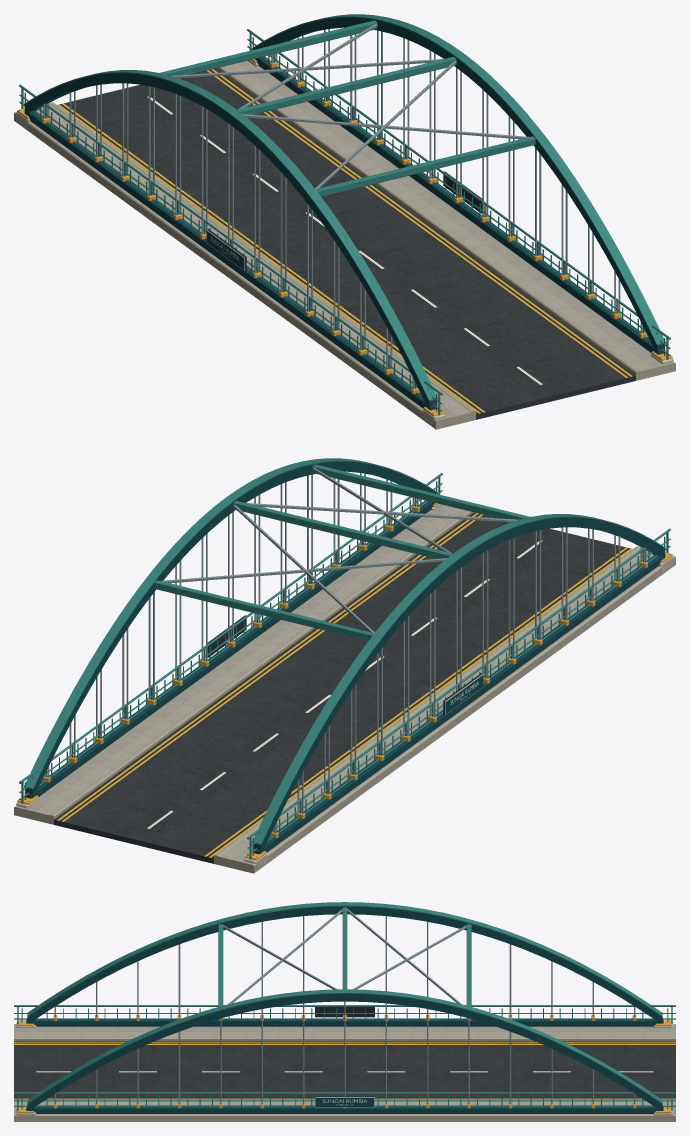
3 views of the same model, one above another, from view 1: azimuth 30°, elevation 25°; view 2: azimuth 150°, elevation 25°; view 3: azimuth 270°, elevation 25° (orthographic). The views are drawn at different scales.
Parts seen in each view (by area): view 1: Road Deck, Kerbs and Footways, Rolled Arch Ribs, Paired Rod Hangers, Tension Ties, Edge Parapets, Portal Struts, Road Markings, Wind Braces, Rod Shoes, Bridge Nameplates, End Shoes; view 2: Road Deck, Kerbs and Footways, Rolled Arch Ribs, Paired Rod Hangers, Tension Ties, Edge Parapets, Portal Struts, Road Markings, Wind Braces, Rod Shoes, Bridge Nameplates, End Shoes; view 3: Road Deck, Kerbs and Footways, Rolled Arch Ribs, Tension Ties, Edge Parapets, Paired Rod Hangers, Road Markings, Wind Braces, Portal Struts, Bridge Nameplates, Rod Shoes, End Shoes.
Part boxes in pixels (x1,y1,x2,y2): Road Deck: (59, 68, 635, 419); Kerbs and Footways: (14, 60, 675, 429); Rolled Arch Ribs: (24, 14, 665, 409); Paired Rod Hangers: (43, 29, 645, 389); Tension Ties: (26, 56, 663, 410); Edge Parapets: (19, 29, 670, 415); Portal Struts: (159, 20, 535, 196); Road Markings: (57, 69, 632, 413); Wind Braces: (171, 23, 528, 189); Rod Shoes: (42, 61, 647, 393); Bridge Nameplates: (206, 171, 482, 271); End Shoes: (16, 59, 673, 426); Road Deck: (54, 512, 630, 863); Kerbs and Footways: (14, 504, 675, 873); Rolled Arch Ribs: (24, 458, 665, 853); Paired Rod Hangers: (44, 473, 646, 833); Tension Ties: (26, 500, 663, 854); Edge Parapets: (19, 473, 670, 859); Portal Struts: (154, 464, 530, 640); Road Markings: (57, 513, 632, 857); Wind Braces: (161, 467, 518, 633); Rod Shoes: (42, 505, 647, 837); Bridge Nameplates: (207, 615, 483, 715); End Shoes: (16, 503, 673, 869); Road Deck: (14, 1041, 675, 1099); Kerbs and Footways: (14, 1024, 675, 1121); Rolled Arch Ribs: (27, 902, 662, 1110); Tension Ties: (26, 1019, 663, 1113); Edge Parapets: (14, 1005, 675, 1110); Paired Rod Hangers: (54, 916, 635, 1104); Road Markings: (14, 1042, 675, 1099); Wind Braces: (223, 909, 466, 1004); Portal Struts: (218, 907, 471, 1006); Bridge Nameplates: (315, 1007, 374, 1107); Rod Shoes: (53, 1015, 636, 1108); End Shoes: (16, 1020, 673, 1115).
Bounding box in the file's own units: 10.5 × 6.86 × 32.
14 materials, 2 textured.
